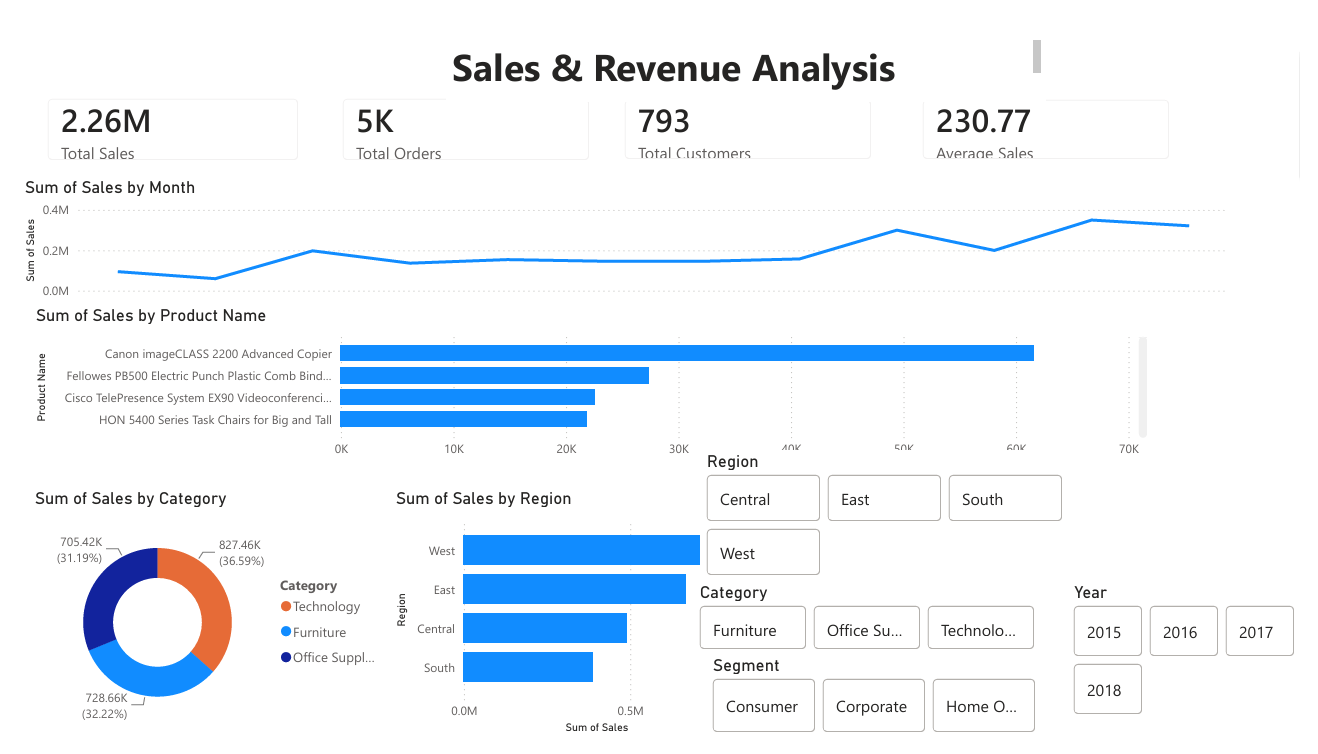

Layout of this report page (visuals, bound fields, positions):
{"tool":"powerbi","page":{"name":"Page 1","canvas":[1280,720],"ordinal":0},"visuals":[{"type":"cardVisual","fields":{"Data":["Sum(SampleSuperstore.Sales)"]},"box":[11.3,64.8,285,95.5],"z":0},{"type":"cardVisual","fields":{"Data":["SampleSuperstore.Total Orders"]},"box":[306,64.8,280.1,95.5],"z":1},{"type":"cardVisual","fields":{"Data":["SampleSuperstore.Total Customers"]},"box":[587.8,66.4,280.1,93.9],"z":2},{"type":"cardVisual","fields":{"Data":["SampleSuperstore.Average Sales"]},"box":[885.7,66.4,280.1,93.9],"z":3},{"type":"lineChart","fields":{"Category":["SampleSuperstore.Order Date.Variation.Date Hierarchy.Month"],"Y":["Sum(SampleSuperstore.Sales)"]},"box":[0,160.3,1212.8,127.9],"z":4},{"type":"clusteredBarChart","fields":{"Category":["SampleSuperstore.Product Name"],"Y":["Sum(SampleSuperstore.Sales)"]},"box":[11.3,288.2,1120.5,161.9],"z":5},{"type":"donutChart","fields":{"Category":["SampleSuperstore.Category"],"Y":["Sum(SampleSuperstore.Sales)"]},"box":[9.7,471.2,361.1,249.4],"z":6},{"type":"barChart","fields":{"Category":["SampleSuperstore.Region"],"Y":["Sum(SampleSuperstore.Sales)"]},"box":[370.8,471.2,357.8,249.4],"z":7},{"type":"advancedSlicerVisual","fields":{"Values":["SampleSuperstore.Region"]},"box":[681.7,434,367.6,131.2],"z":8},{"type":"advancedSlicerVisual","fields":{"Values":["SampleSuperstore.Category"]},"box":[675.2,565.1,346.5,72.9],"z":9},{"type":"advancedSlicerVisual","fields":{"Values":["SampleSuperstore.Segment"]},"box":[688.2,638,333.6,82.6],"z":10},{"type":"advancedSlicerVisual","fields":{"Values":["SampleSuperstore.Order Date.Variation.Date Hierarchy.Year"]},"box":[1049.3,565.1,231.5,137.6],"z":11},{"type":"textbox","box":[427.5,19.4,599.1,66.4],"z":12}]}

Visuals, with their boxes in screenshot pixels (x1, y1, x2, y2), scaled from the page's 1280x720 canvas onto the 1318x754 screenshot:
cardVisual - Sum(SampleSuperstore.Sales): <region>12, 68, 305, 168</region>
cardVisual - SampleSuperstore.Total Orders: <region>315, 68, 603, 168</region>
cardVisual - SampleSuperstore.Total Customers: <region>605, 70, 894, 168</region>
cardVisual - SampleSuperstore.Average Sales: <region>912, 70, 1200, 168</region>
lineChart - SampleSuperstore.Order Date.Variation.Date Hierarchy.Month x Sum(SampleSuperstore.Sales): <region>0, 168, 1249, 302</region>
clusteredBarChart - SampleSuperstore.Product Name x Sum(SampleSuperstore.Sales): <region>12, 302, 1165, 471</region>
donutChart - SampleSuperstore.Category x Sum(SampleSuperstore.Sales): <region>10, 493, 382, 753</region>
barChart - SampleSuperstore.Region x Sum(SampleSuperstore.Sales): <region>382, 493, 750, 753</region>
advancedSlicerVisual - SampleSuperstore.Region: <region>702, 454, 1080, 592</region>
advancedSlicerVisual - SampleSuperstore.Category: <region>695, 592, 1052, 668</region>
advancedSlicerVisual - SampleSuperstore.Segment: <region>709, 668, 1052, 753</region>
advancedSlicerVisual - SampleSuperstore.Order Date.Variation.Date Hierarchy.Year: <region>1080, 592, 1317, 736</region>
textbox: <region>440, 20, 1057, 90</region>
